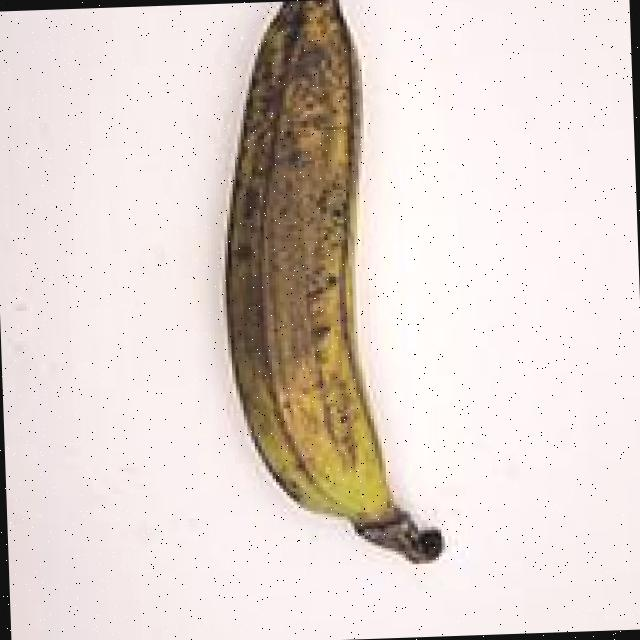Overripe: (138, 0, 492, 585)
